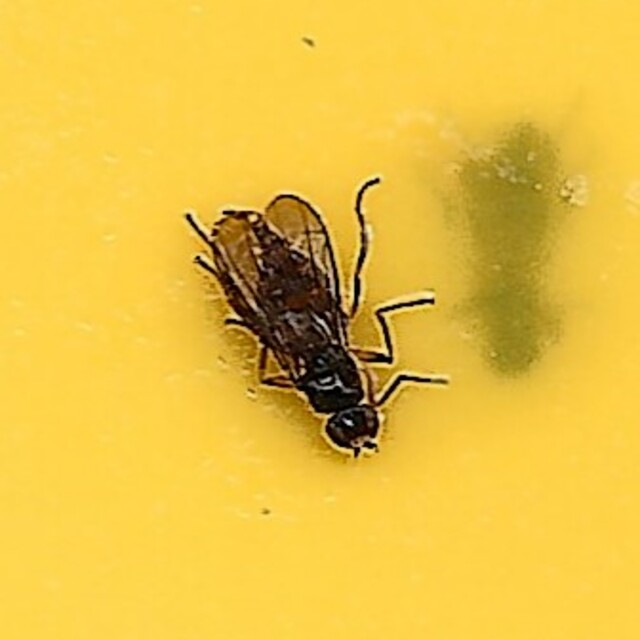Brachycera: (190, 180, 450, 460)
